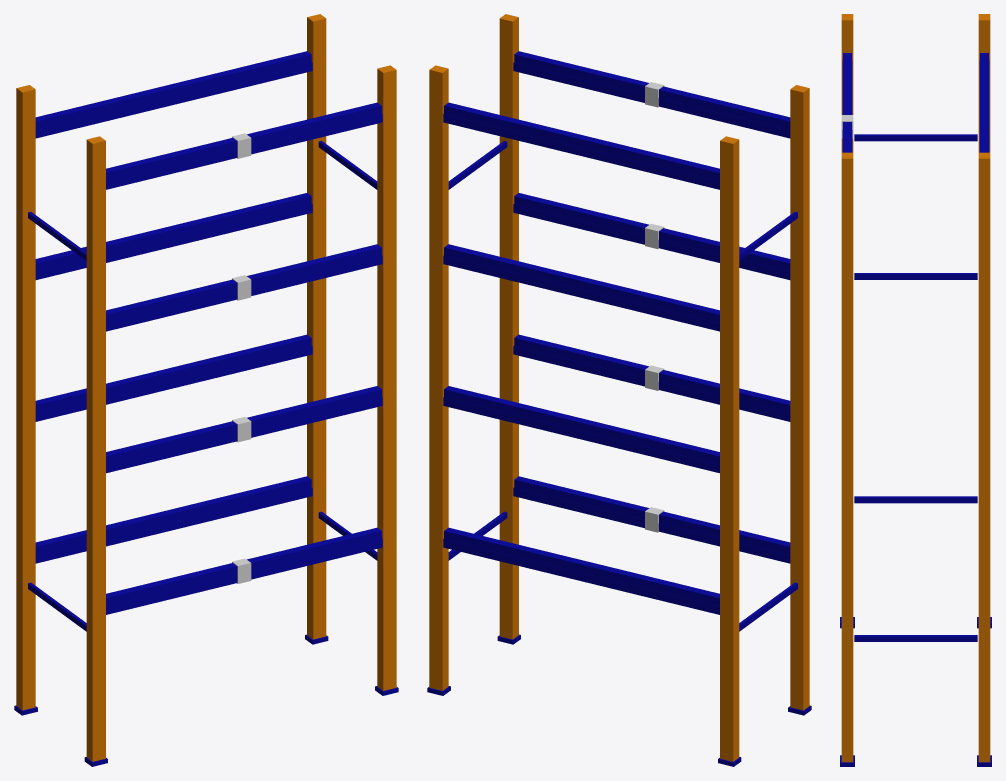
The model's file is high-duty-C23-4.glb.
3 renders of one model, left to right at view 1: azimuth 30°, elevation 25°; view 2: azimuth 150°, elevation 25°; view 3: azimuth 270°, elevation 25°, orthographic. The views are drawn at different scales.
Parts seen in each view (by area): view 1: part_0, part_4, part_2, part_6, part_25, part_18, part_8, part_13, part_23, part_15, part_10, part_20 (+8 smaller); view 2: part_4, part_0, part_6, part_2, part_10, part_20, part_25, part_15, part_23, part_8, part_13, part_18 (+8 smaller); view 3: part_2, part_6, part_28, part_29, part_4, part_25, part_30, part_31, part_23, part_0.
Boxes of the visible parts, <box> form: part_0: <box>86,136,105,761</box>; part_4: <box>16,85,35,710</box>; part_2: <box>377,65,396,690</box>; part_6: <box>307,14,326,639</box>; part_25: <box>35,51,311,129</box>; part_18: <box>106,244,381,322</box>; part_8: <box>106,527,381,606</box>; part_13: <box>106,386,381,464</box>; part_23: <box>106,102,381,181</box>; part_15: <box>35,334,311,413</box>; part_10: <box>35,476,311,554</box>; part_20: <box>35,193,311,271</box>; part_4: <box>720,136,739,761</box>; part_0: <box>790,85,809,710</box>; part_6: <box>429,65,448,690</box>; part_2: <box>499,14,518,639</box>; part_10: <box>444,527,719,606</box>; part_20: <box>444,244,719,322</box>; part_25: <box>444,102,719,181</box>; part_15: <box>444,386,719,464</box>; part_23: <box>514,51,790,129</box>; part_8: <box>514,476,790,554</box>; part_13: <box>514,334,790,413</box>; part_18: <box>514,193,790,271</box>; part_2: <box>841,152,853,762</box>; part_6: <box>978,152,990,762</box>; part_28: <box>854,496,977,503</box>; part_29: <box>854,134,977,141</box>; part_4: <box>978,14,990,152</box>; part_25: <box>980,53,988,152</box>; part_30: <box>854,635,977,641</box>; part_31: <box>854,273,977,279</box>; part_23: <box>843,53,851,152</box>; part_0: <box>841,14,853,152</box>.
Size of the model in its own units: 2320 by 4500 by 1020.
